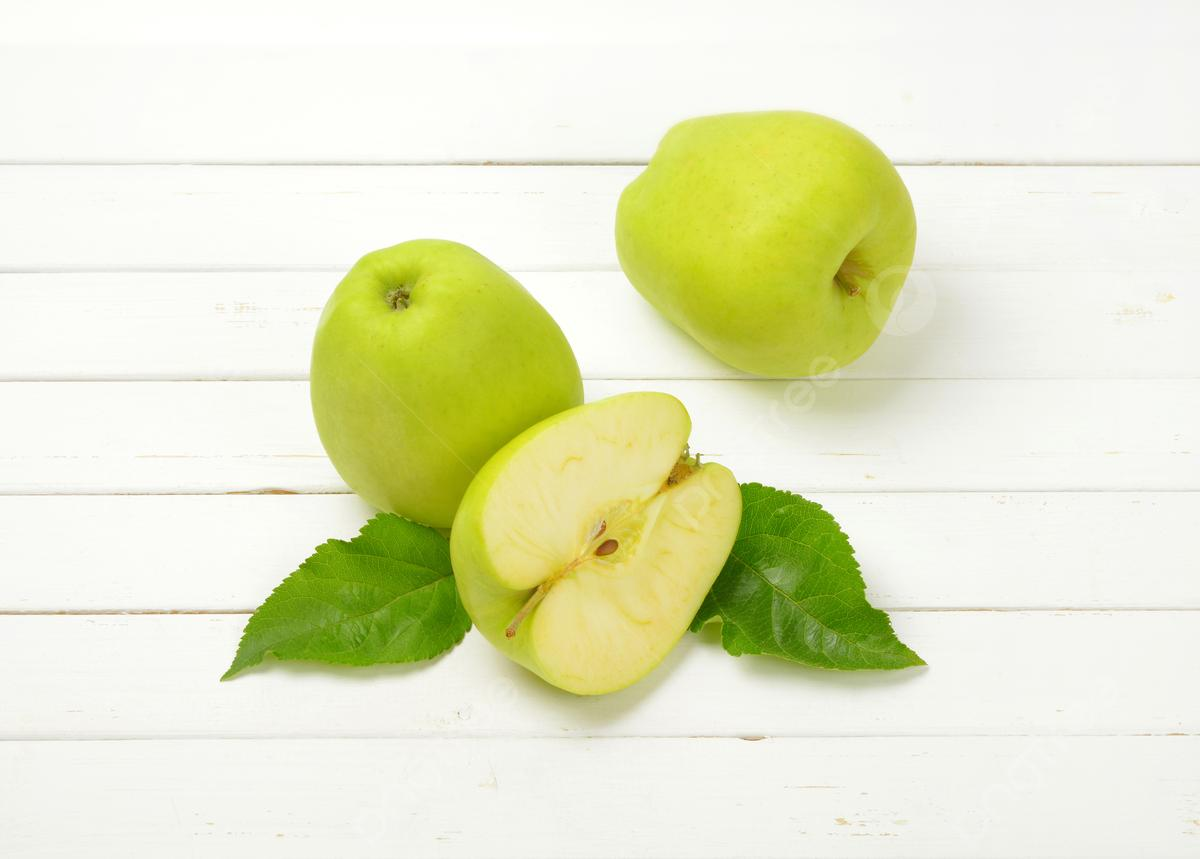apples: (176, 100, 950, 747)
